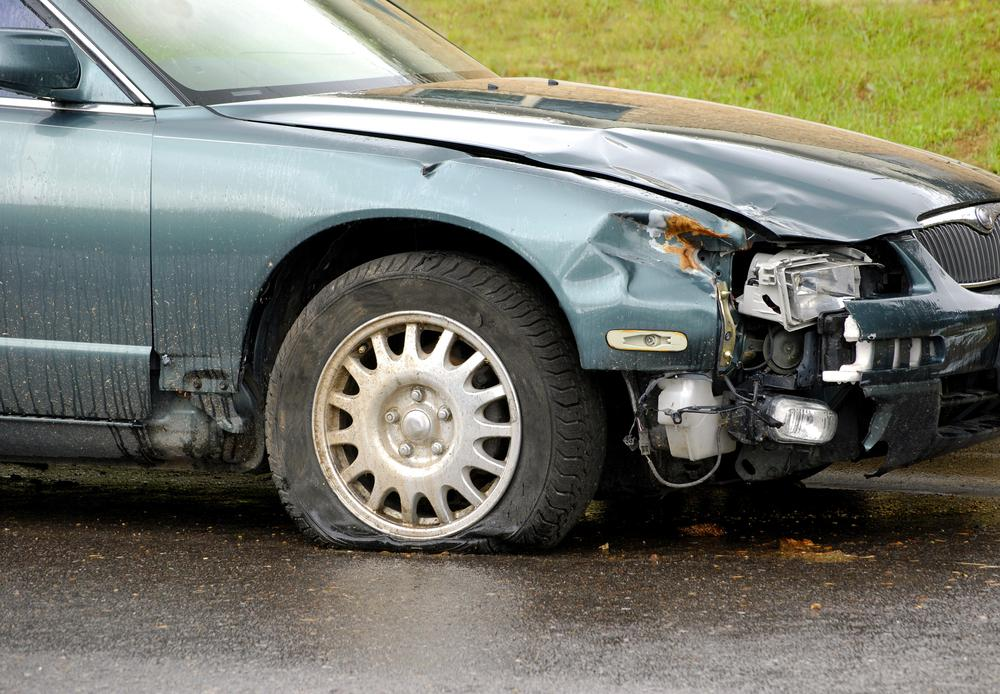dent: (521, 123, 920, 238), (558, 206, 744, 315), (413, 151, 473, 183)
lamp broken: (723, 225, 922, 322)
tire flat: (265, 244, 606, 556)
